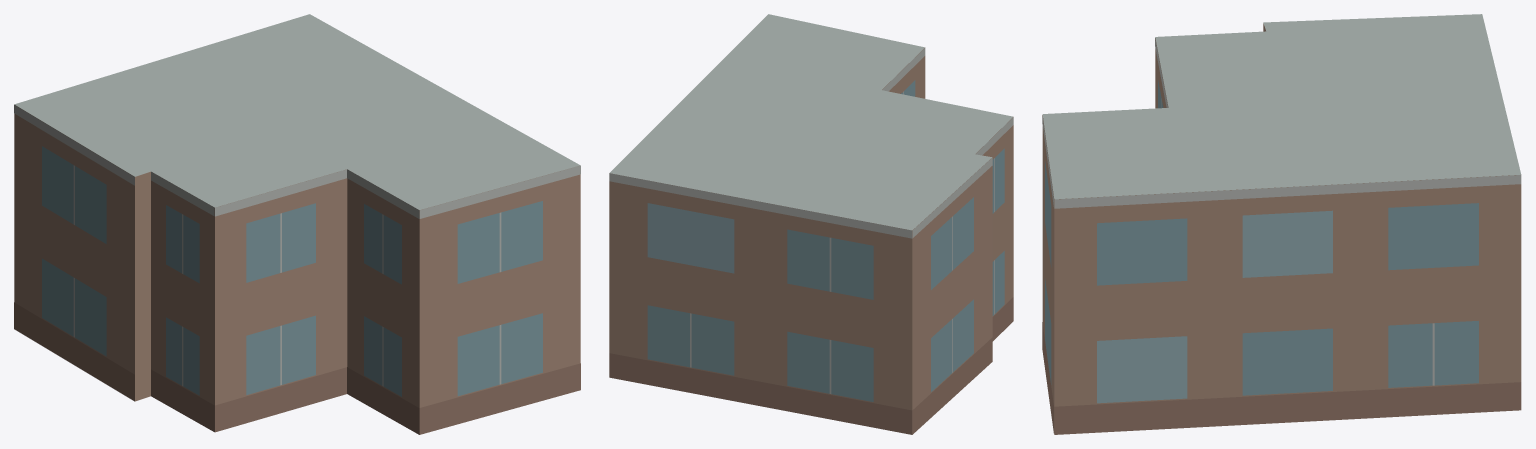
Rendered from survey-upis-33005574.glb.
The picture shows the model from 3 angles, left to right: view 1: azimuth 30°, elevation 25°; view 2: azimuth 150°, elevation 25°; view 3: azimuth 270°, elevation 25°; orthographic projection. The views are drawn at different scales.
Parts seen in each view (by area): view 1: survey-upis-33005574.tmp; view 2: survey-upis-33005574.tmp; view 3: survey-upis-33005574.tmp.
Boxes of the visible parts, x1,y1,x2,y2 form: survey-upis-33005574.tmp: (14,14,580,434); survey-upis-33005574.tmp: (609,14,1013,434); survey-upis-33005574.tmp: (1042,14,1521,434).
Bounding box in the file's own units: 10.31 × 6.1 × 11.25.
